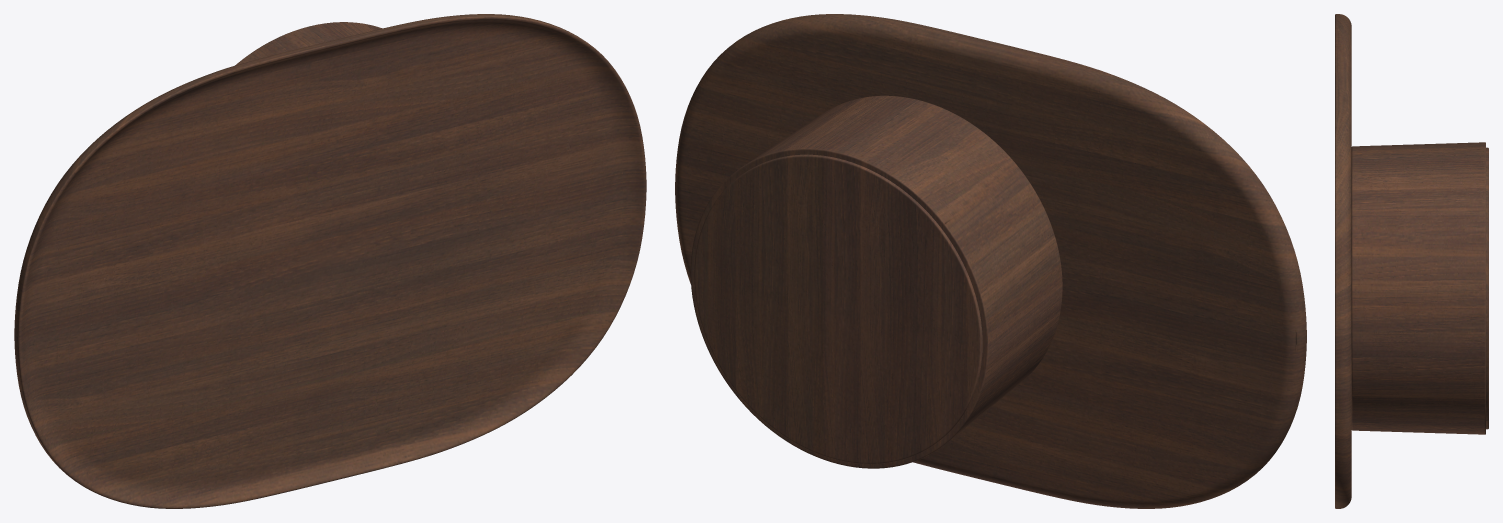
Rendered from living_room_table.obj.
3 renders of one model, left to right at view 1: azimuth 30°, elevation 25°; view 2: azimuth 150°, elevation 25°; view 3: azimuth 270°, elevation 25°, orthographic. The views are drawn at different scales.
Visible parts, largest first — view 1: living_room_table_Louisa_Coffee_Table_LTV3; view 2: living_room_table_Louisa_Coffee_Table_LTV3; view 3: living_room_table_Louisa_Coffee_Table_LTV3.
Part boxes in pixels (left/top/right/bottom): living_room_table_Louisa_Coffee_Table_LTV3: left=14, top=14, right=646, bottom=508; living_room_table_Louisa_Coffee_Table_LTV3: left=675, top=14, right=1306, bottom=508; living_room_table_Louisa_Coffee_Table_LTV3: left=1335, top=14, right=1488, bottom=508.
Bounding box in the file's own units: 1.2 × 0.7974 × 0.2997.
1 material, 1 textured.
